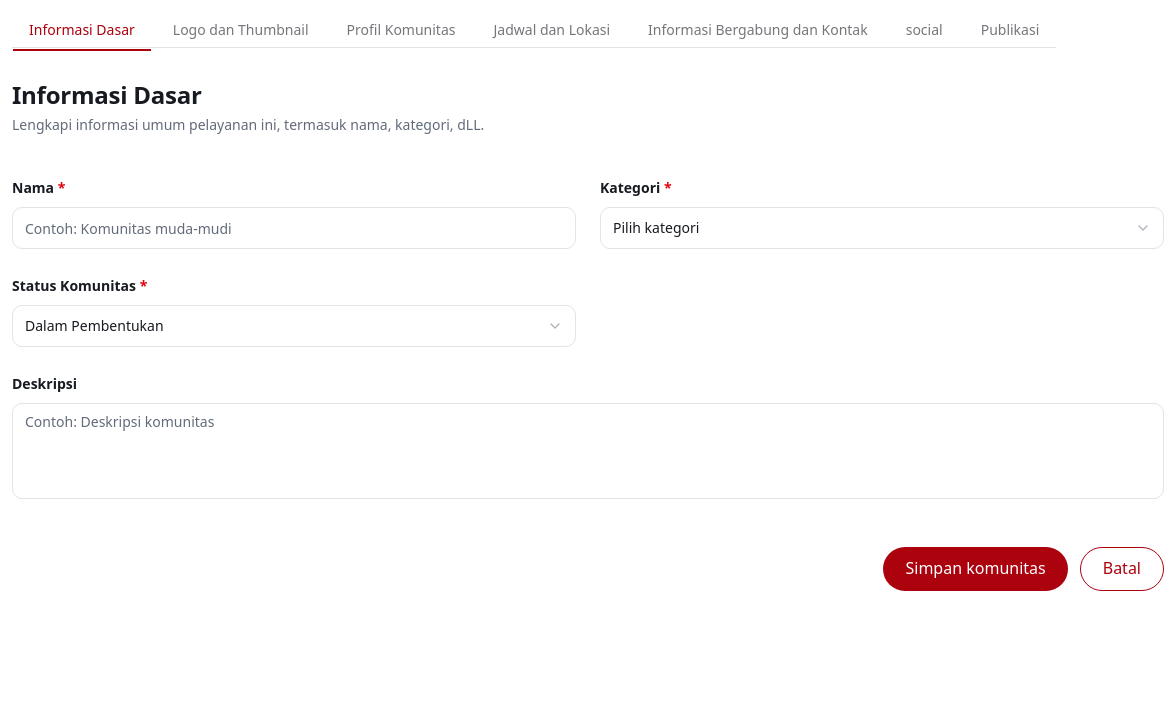
Scenario: CommunityForm — tab shell › moves to the tab holding the error and badges it
Click the button "Simpan komunitas" at (976, 569), box [884,547,1068,591]
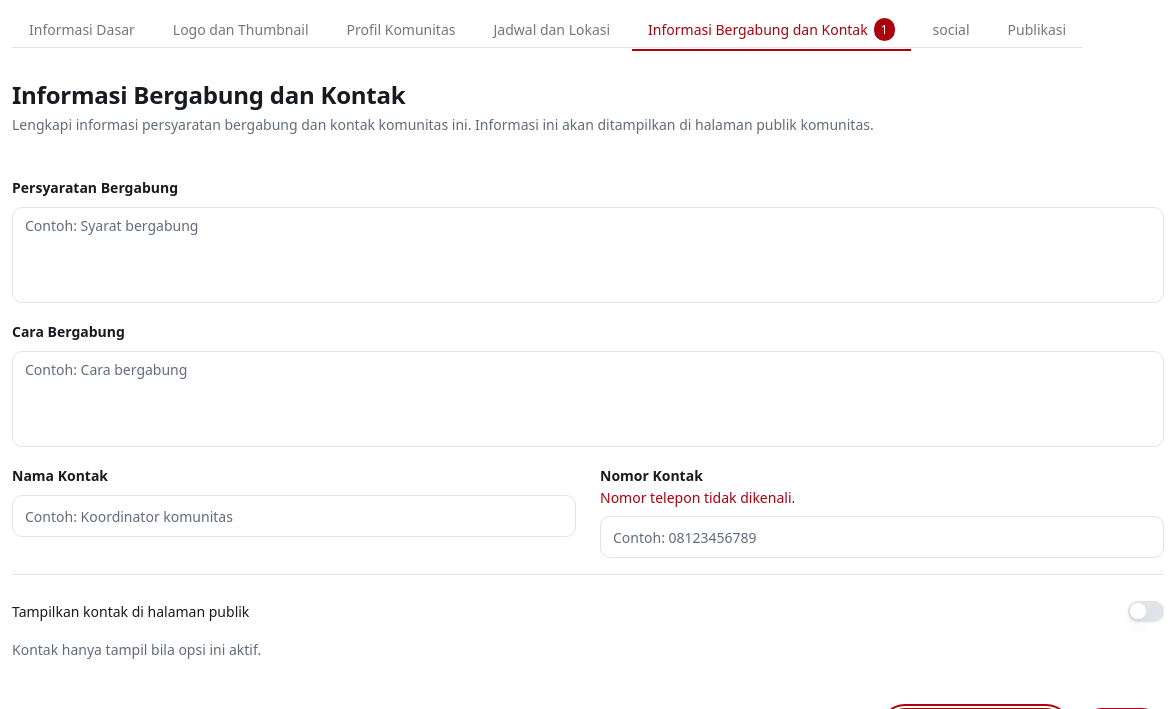
Check: the text "Nomor telepon tidak dikenali." is shown, box [600,488,795,507]
